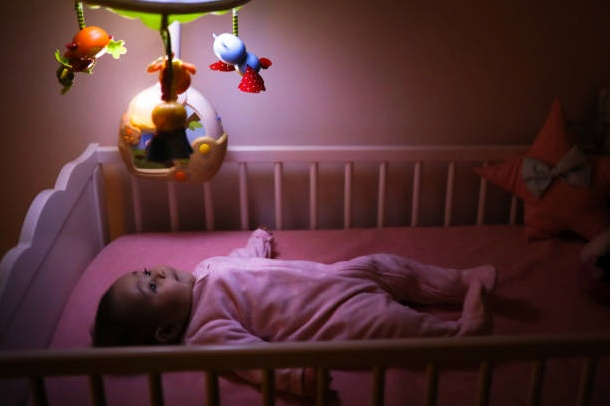baby: (93, 229, 495, 345)
crib: (0, 145, 609, 404)
